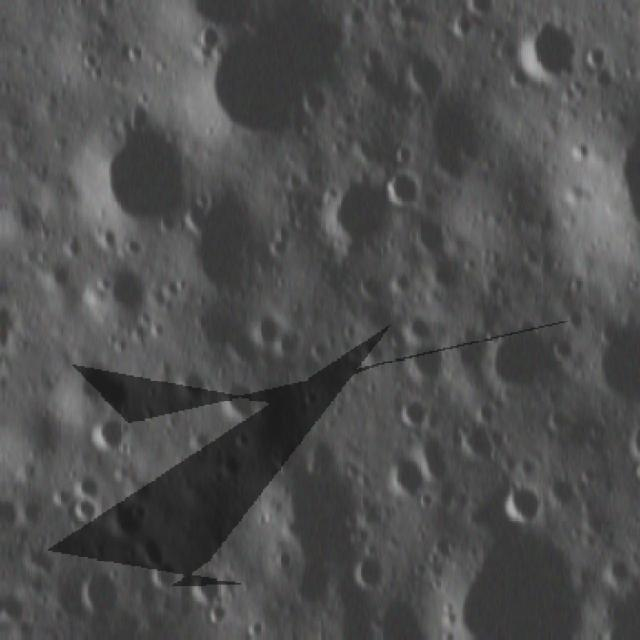crater: (191, 5, 351, 144), (68, 128, 192, 225), (316, 177, 396, 258), (511, 20, 592, 94), (50, 354, 133, 414), (480, 329, 548, 396), (90, 260, 144, 326), (380, 454, 431, 504), (376, 164, 426, 213), (398, 338, 448, 387), (69, 569, 117, 617), (497, 484, 543, 527), (342, 549, 384, 593), (406, 55, 446, 100), (449, 425, 489, 466), (220, 380, 262, 418), (394, 395, 428, 440), (81, 421, 125, 454), (185, 565, 217, 606), (298, 86, 334, 120), (130, 534, 164, 569), (172, 372, 202, 401), (72, 473, 96, 504), (192, 25, 218, 53), (70, 496, 96, 524), (148, 562, 174, 590), (361, 48, 388, 74), (583, 43, 606, 72), (48, 486, 69, 509)
